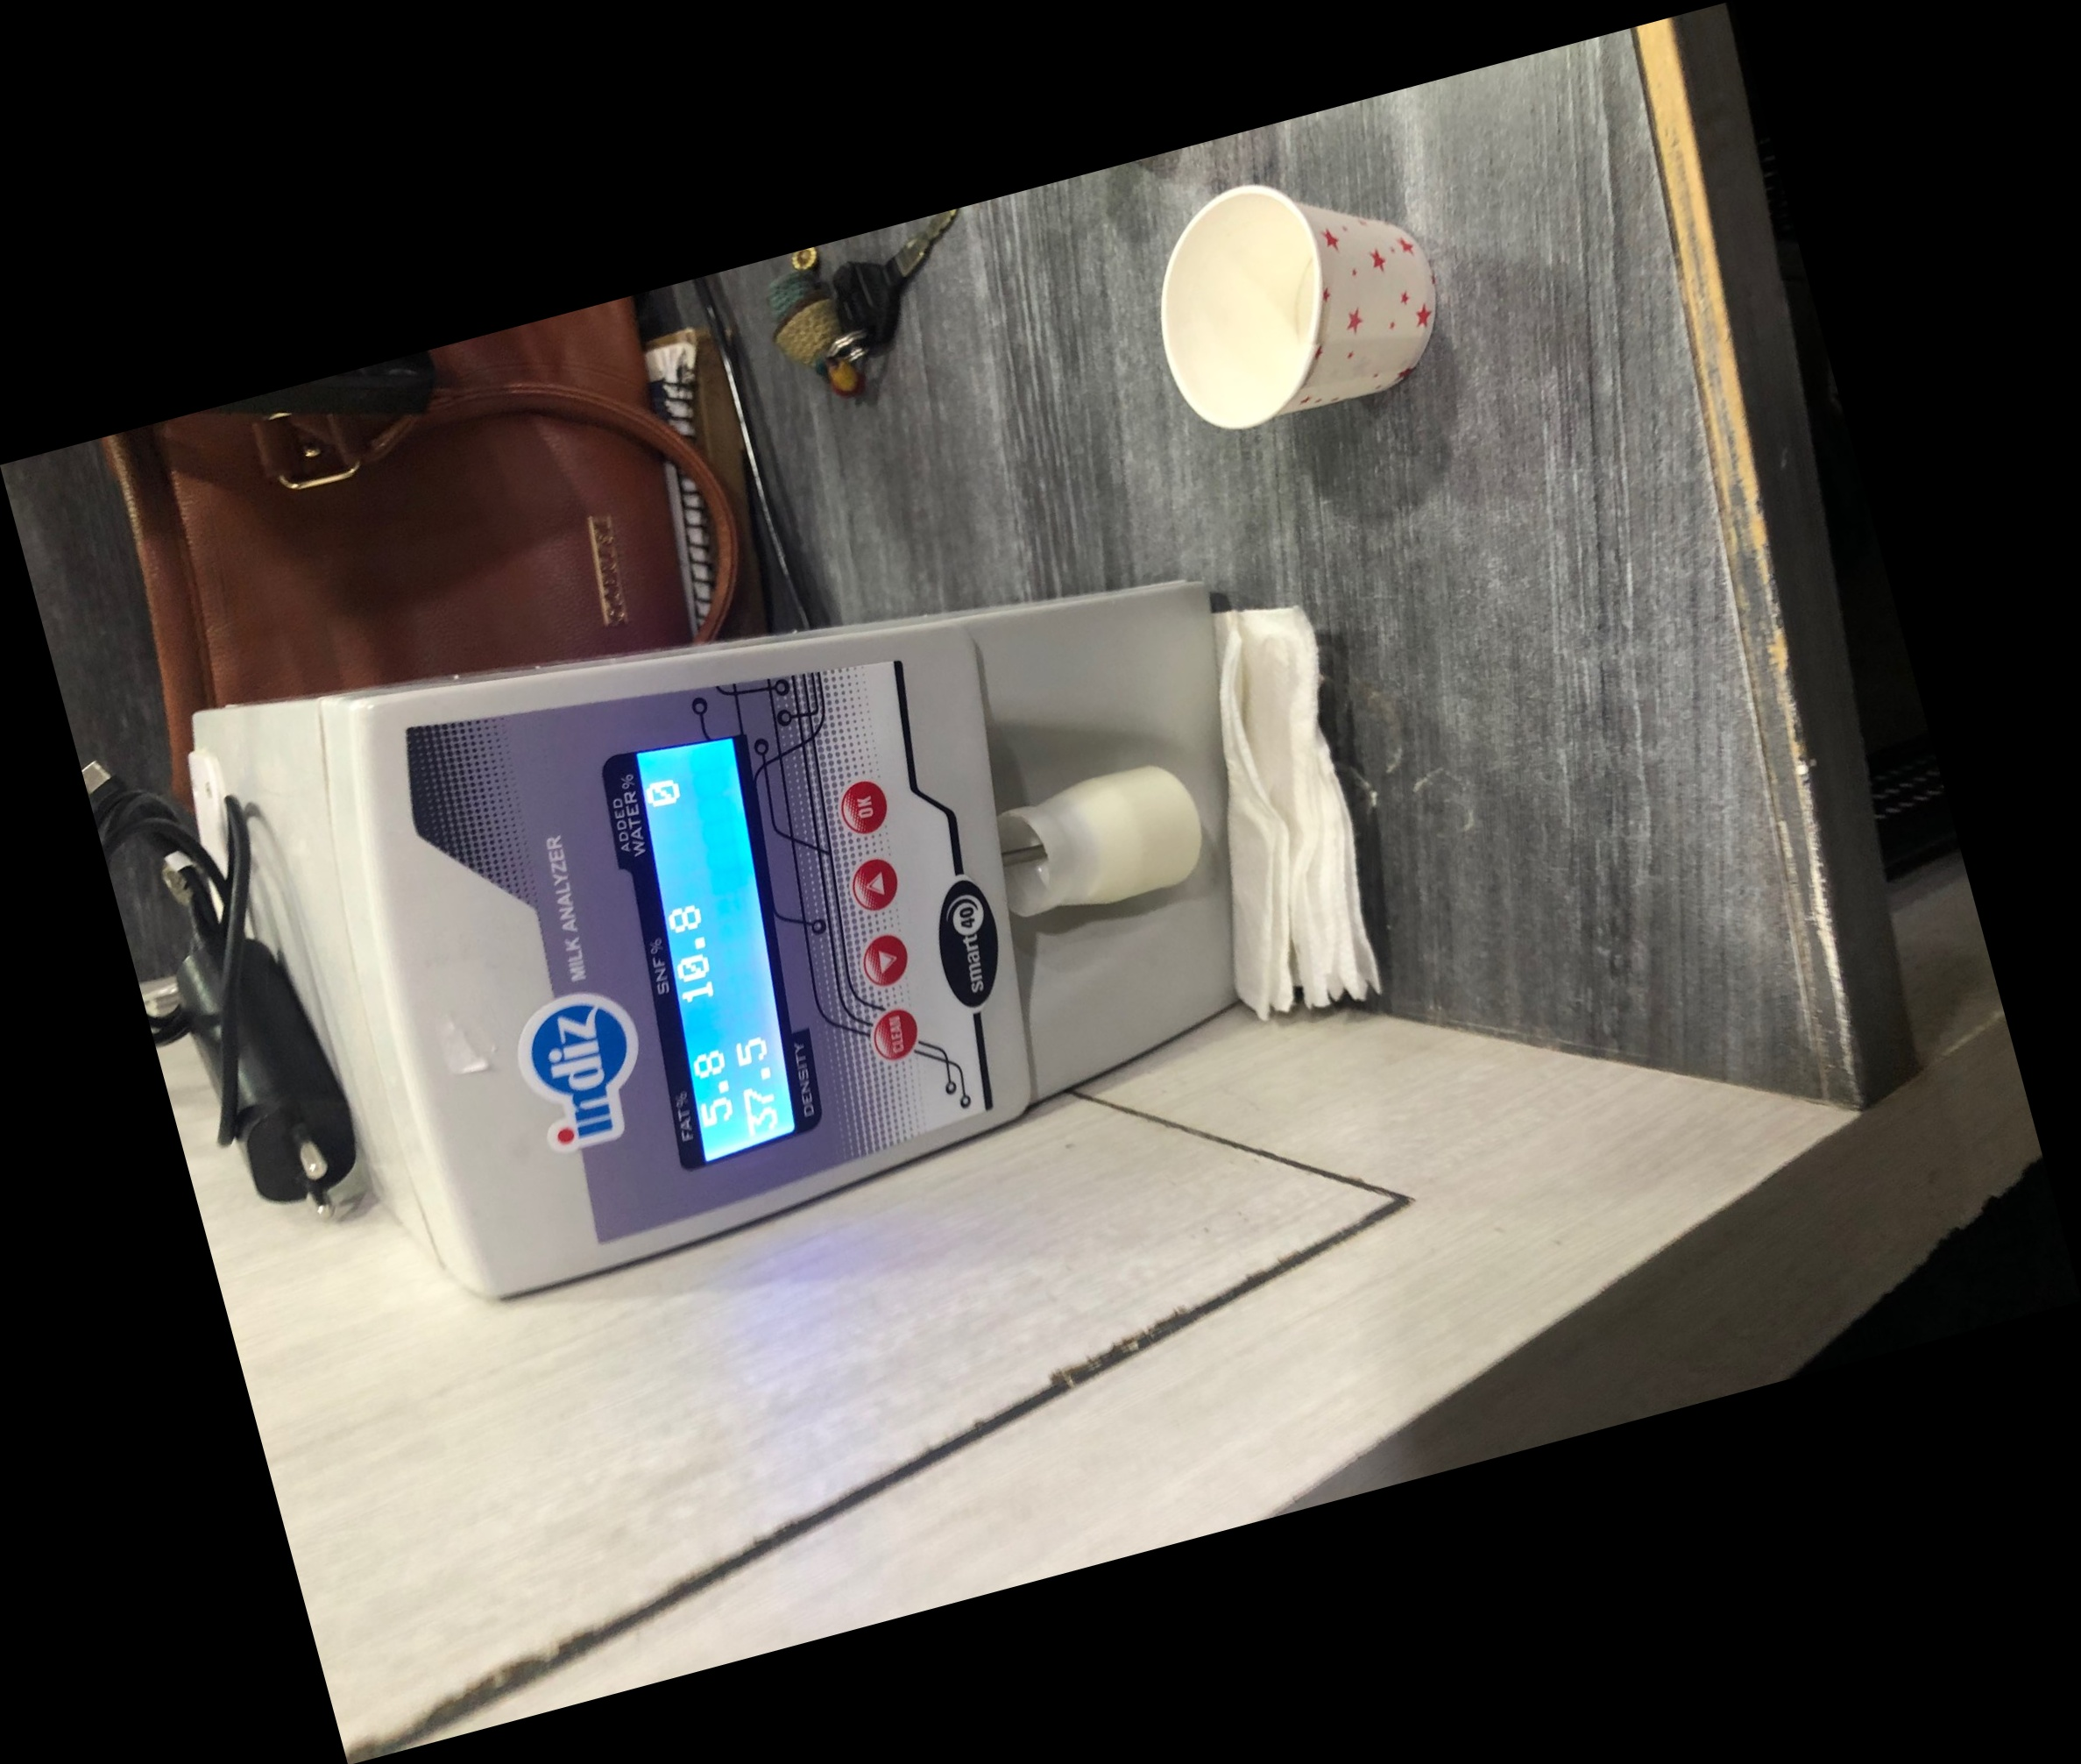lcd: (604, 726, 826, 1164)
